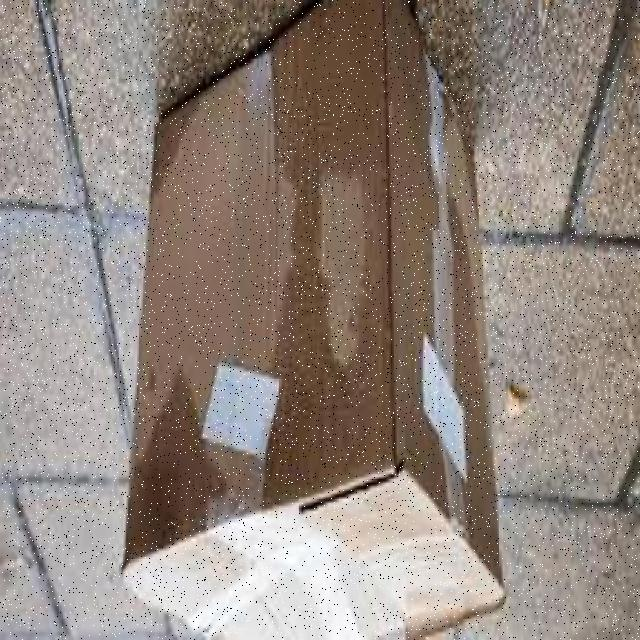defect: (142, 1, 516, 638)
